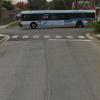Bus: (16, 6, 96, 33)
